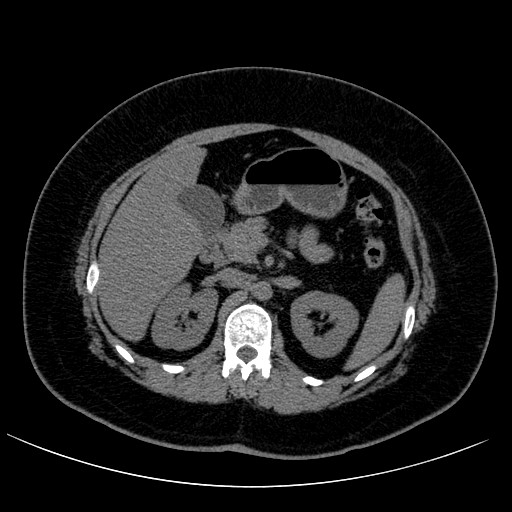vesicula: (175, 181, 227, 238)
